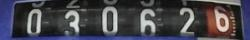digits: (63, 8, 81, 40), (178, 6, 196, 38), (139, 8, 158, 38), (101, 5, 118, 38), (213, 6, 231, 34), (26, 8, 43, 37)
